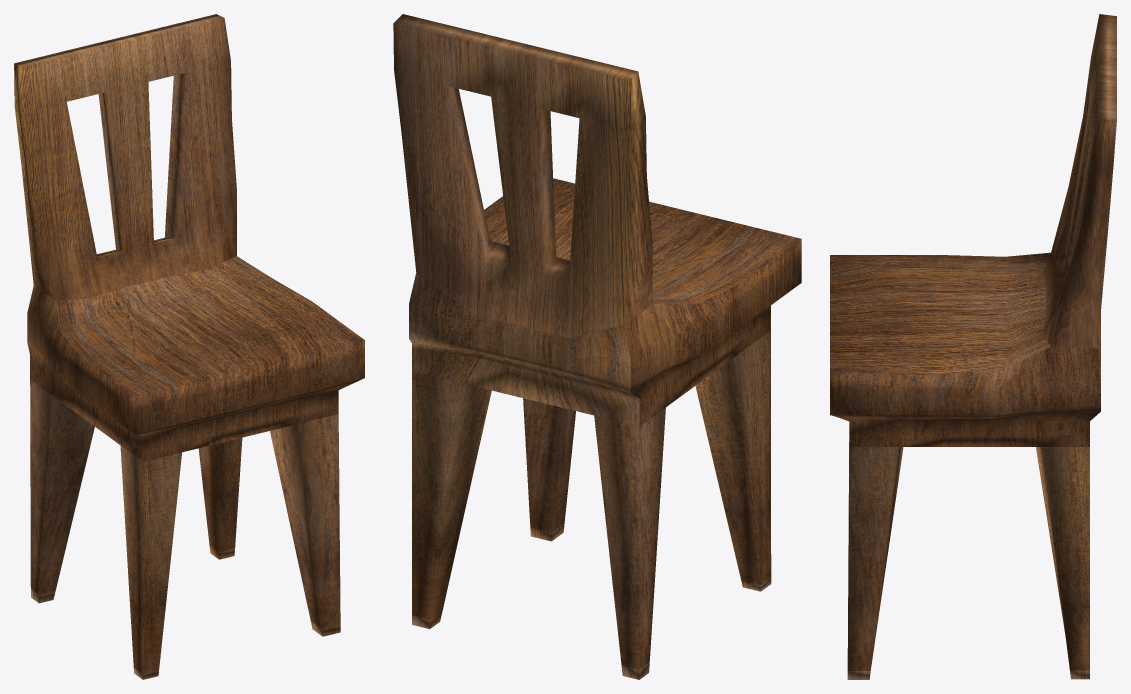
Rendered from Obj_vid_04_Cadira_low_poly.fbx.
3 views of the same model, side by side, from view 1: azimuth 30°, elevation 25°; view 2: azimuth 150°, elevation 25°; view 3: azimuth 270°, elevation 25° (orthographic). The views are drawn at different scales.
Parts seen in each view (by area): view 1: Obj_vid_04_Cadira_low_poly; view 2: Obj_vid_04_Cadira_low_poly; view 3: Obj_vid_04_Cadira_low_poly.
Boxes of the visible parts, x1,y1,x2,y2 form: Obj_vid_04_Cadira_low_poly: (14,14,364,679); Obj_vid_04_Cadira_low_poly: (393,14,801,679); Obj_vid_04_Cadira_low_poly: (830,14,1116,679).
Bounding box in the file's own units: 0.5013 × 1.1 × 0.508.
